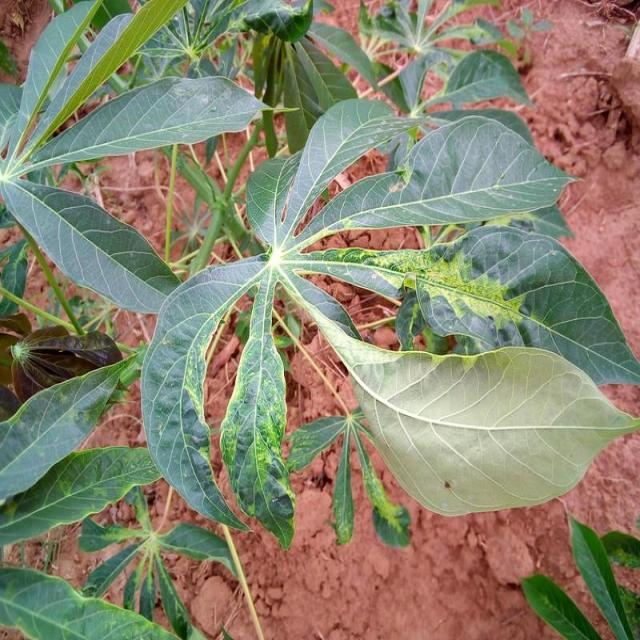cassava leaf: (346, 342, 640, 518), (24, 72, 274, 175), (2, 175, 184, 314)
